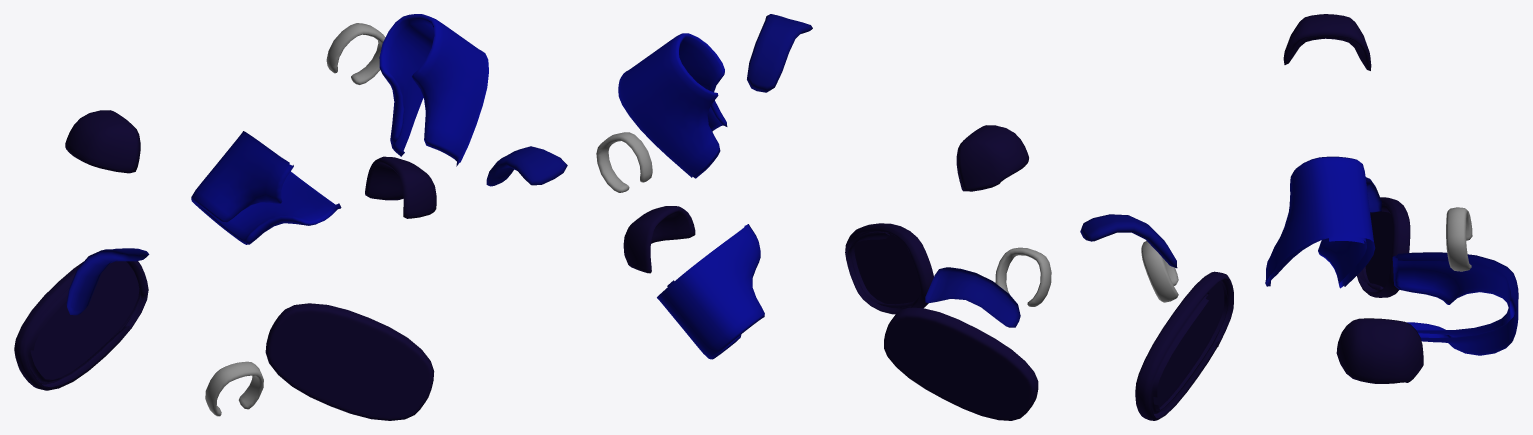
File: Shoes3.fbx
3 views of the same model, side by side, from view 1: azimuth 30°, elevation 25°; view 2: azimuth 150°, elevation 25°; view 3: azimuth 270°, elevation 25° (orthographic). The views are drawn at different scales.
Visible parts, largest first — view 1: R-Toes, R-Shoe, R-Tongue, R-Inside; view 2: R-Toes, R-Shoe, R-Tongue, R-Inside; view 3: R-Toes, R-Shoe, R-Inside, R-Tongue.
Part boxes in pixels (x1,y1,x2,y2): R-Toes: (14,110,436,420); R-Shoe: (191,14,488,244); R-Tongue: (66,146,567,315); R-Inside: (205,23,385,416); R-Toes: (623,125,1038,420); R-Shoe: (618,33,764,359); R-Tongue: (747,14,1020,327); R-Inside: (596,132,1051,306); R-Toes: (1135,14,1423,420); R-Shoe: (1265,156,1518,355); R-Inside: (1141,207,1472,302); R-Tongue: (1080,177,1381,268).
Bounding box in the file's own units: 84.58 × 56.41 × 70.35.
